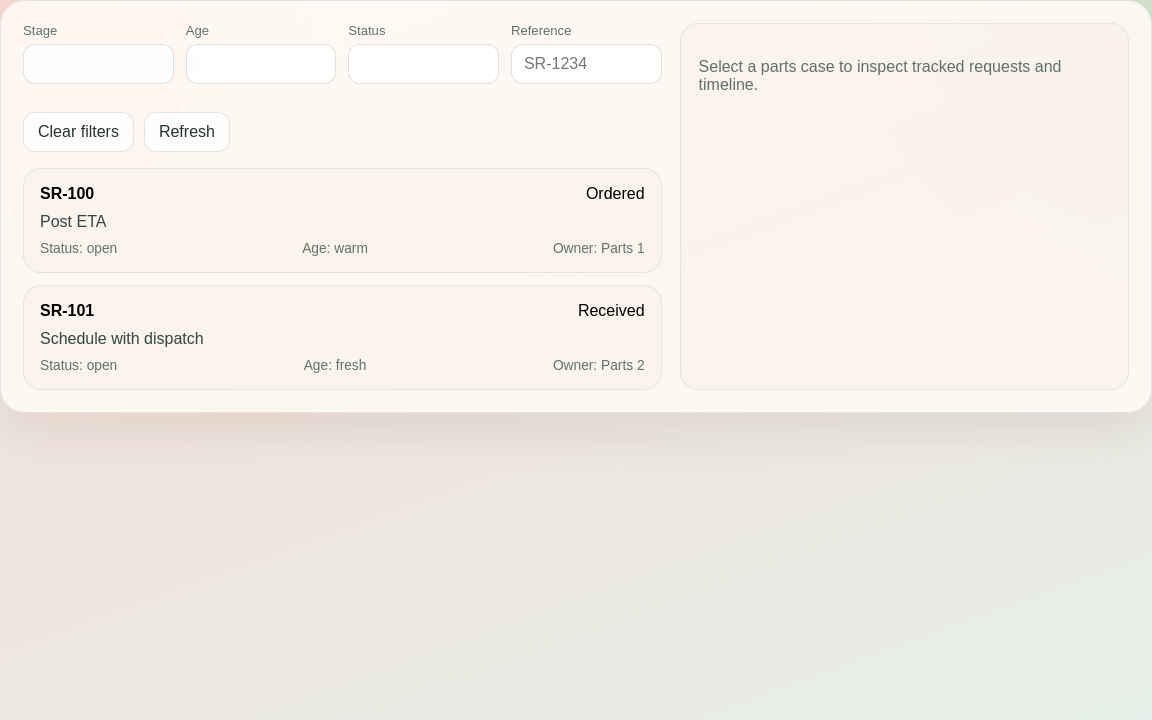
Test case: CasesView › filters visible parts cases by stage
The image size is (1152, 720).
Type "received" into the field labelled "Stage" at {"x": 98, "y": 64}, box [23, 44, 174, 84]
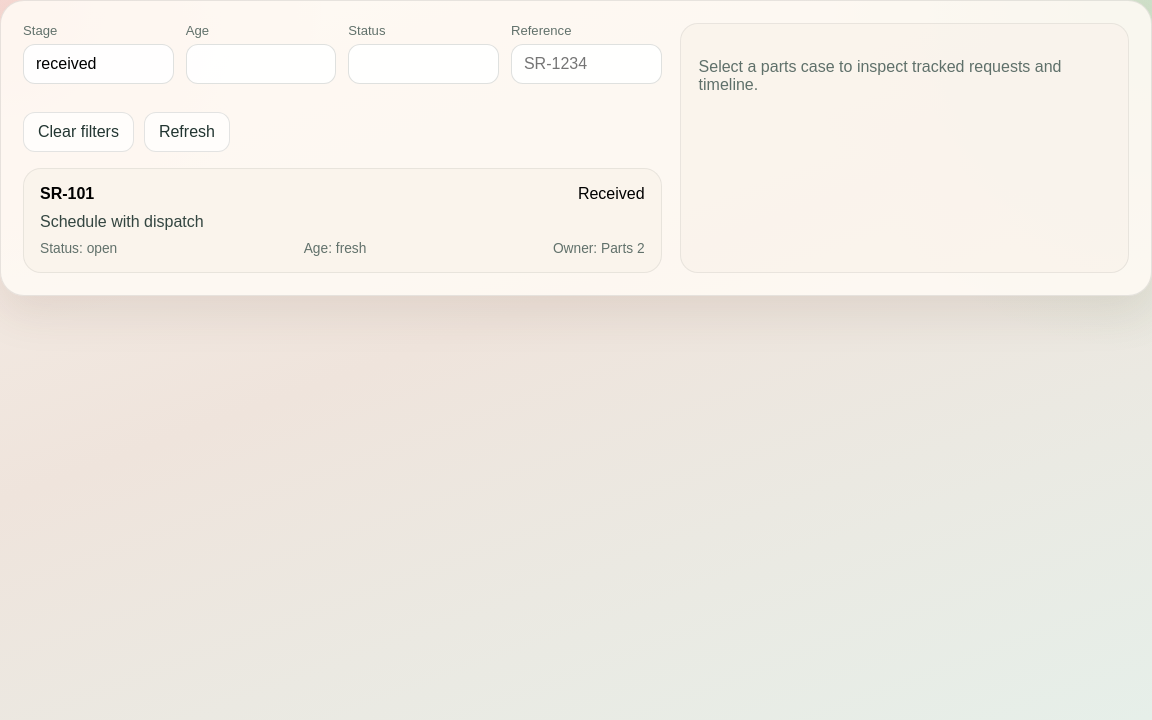
Check: the text "SR-101" is shown, box [40, 185, 94, 203]
Check: the button "SR-100" is gone
